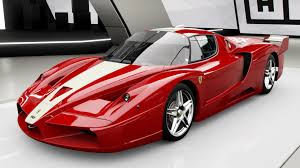car: (15, 22, 294, 155)
